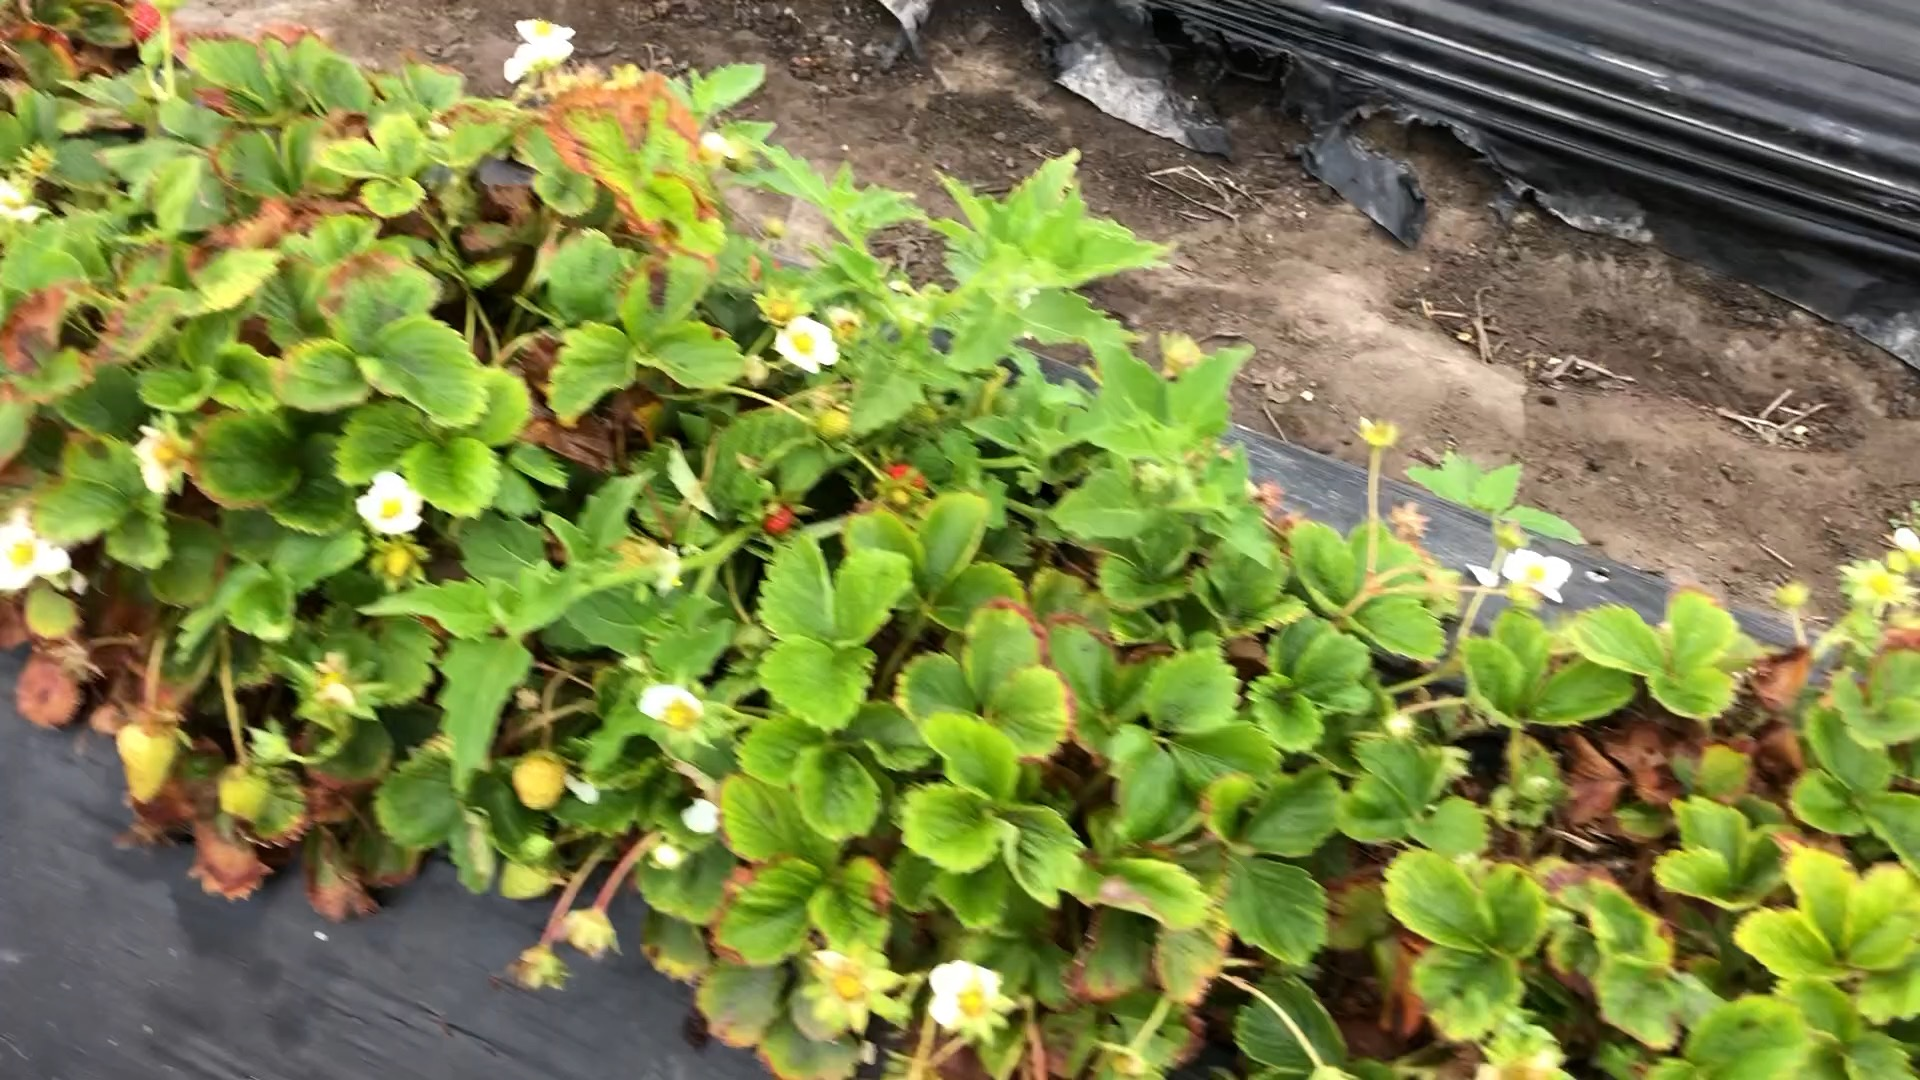ripe_strawberry: (882, 462, 930, 505), (764, 498, 795, 539)
unripe_strawberry: (115, 709, 189, 807), (510, 745, 572, 814), (814, 401, 853, 451)
